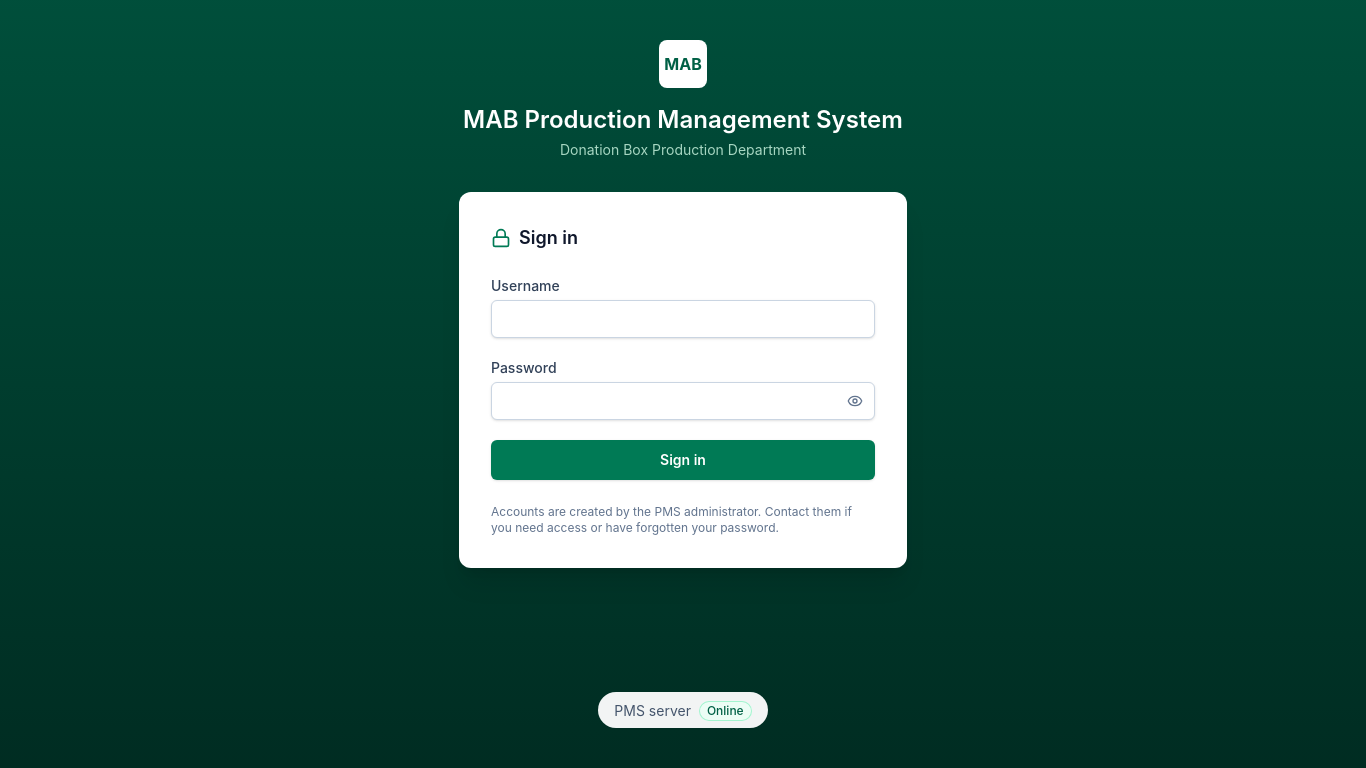
Scenario: LoginPage › shows the server message for invalid credentials and clears the password
Type "synthetic.operator" into the field labelled "Username".
click(683, 319); type("synthetic.operator")  # box [491, 300, 875, 338]
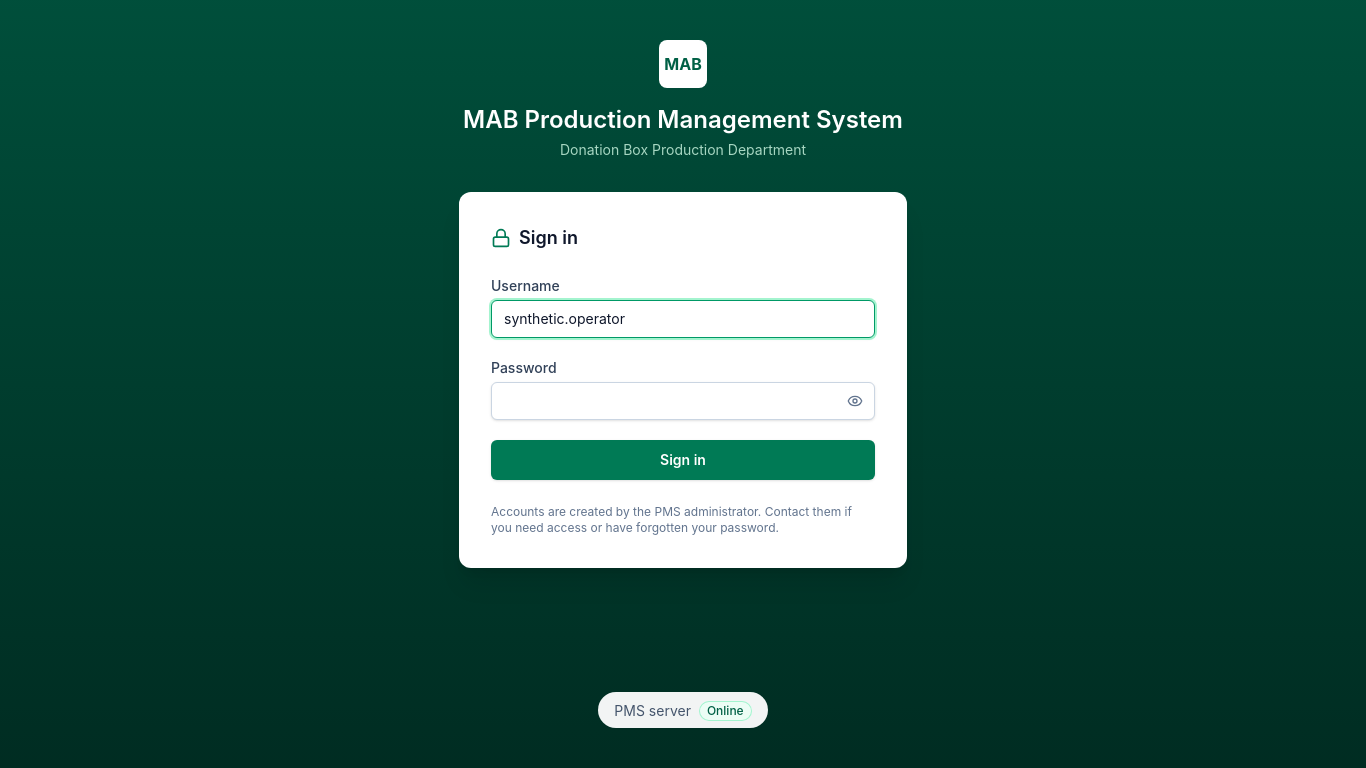
Type "synthetic wrong password" into the password field labelled "Password".
click(683, 401); type("synthetic wrong password")  # box [491, 382, 875, 420]
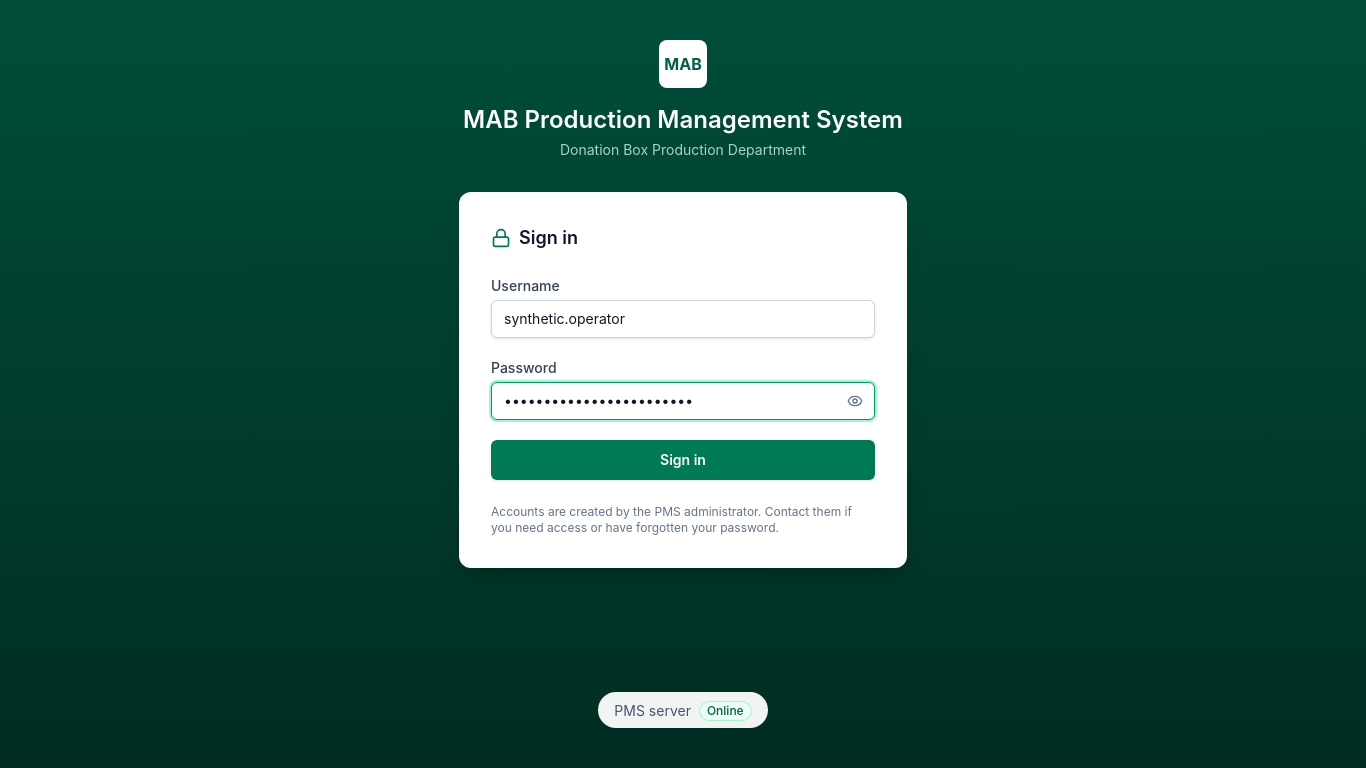
Click the button "Sign in".
click(683, 460)  # box [491, 440, 875, 480]
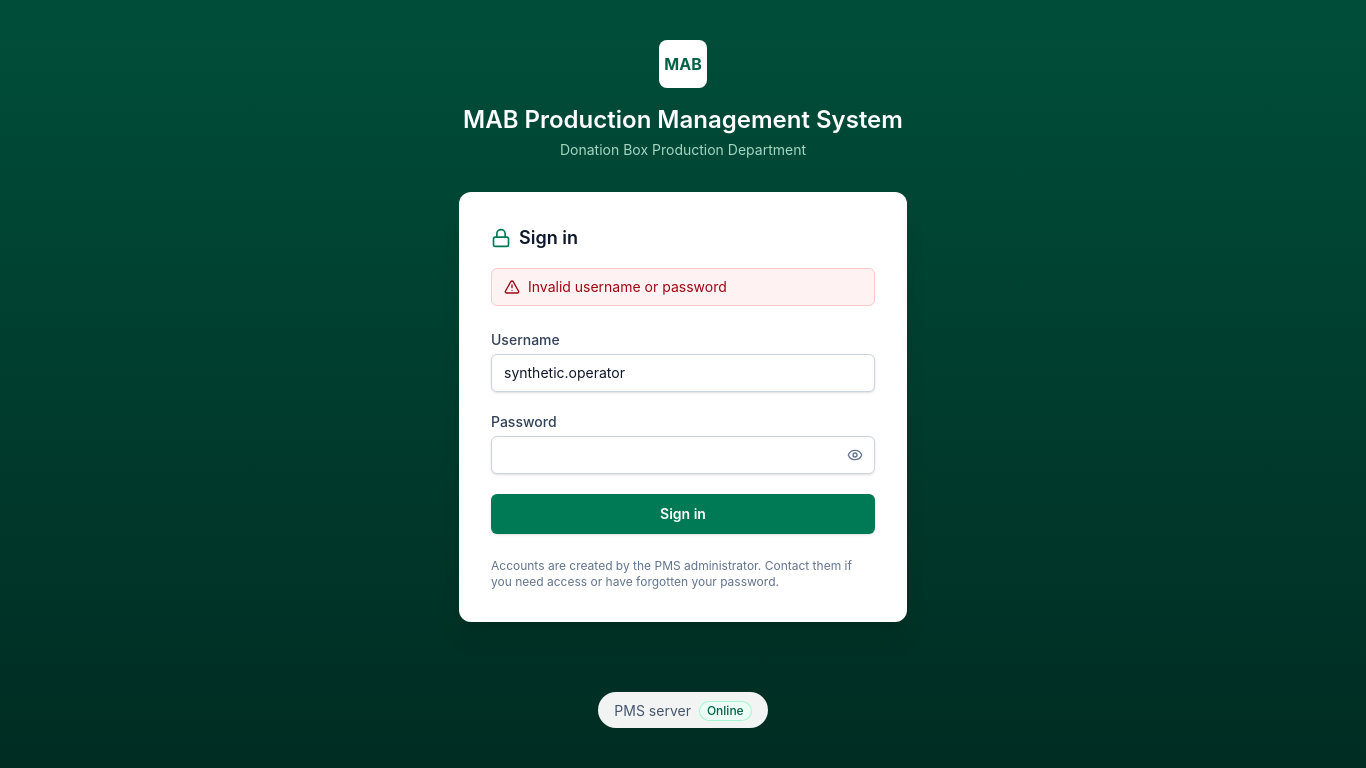
Check: the message reads "Invalid username or password", box [528, 278, 727, 295]
Check: the password field labelled "Password" is empty, box [491, 436, 875, 474]
